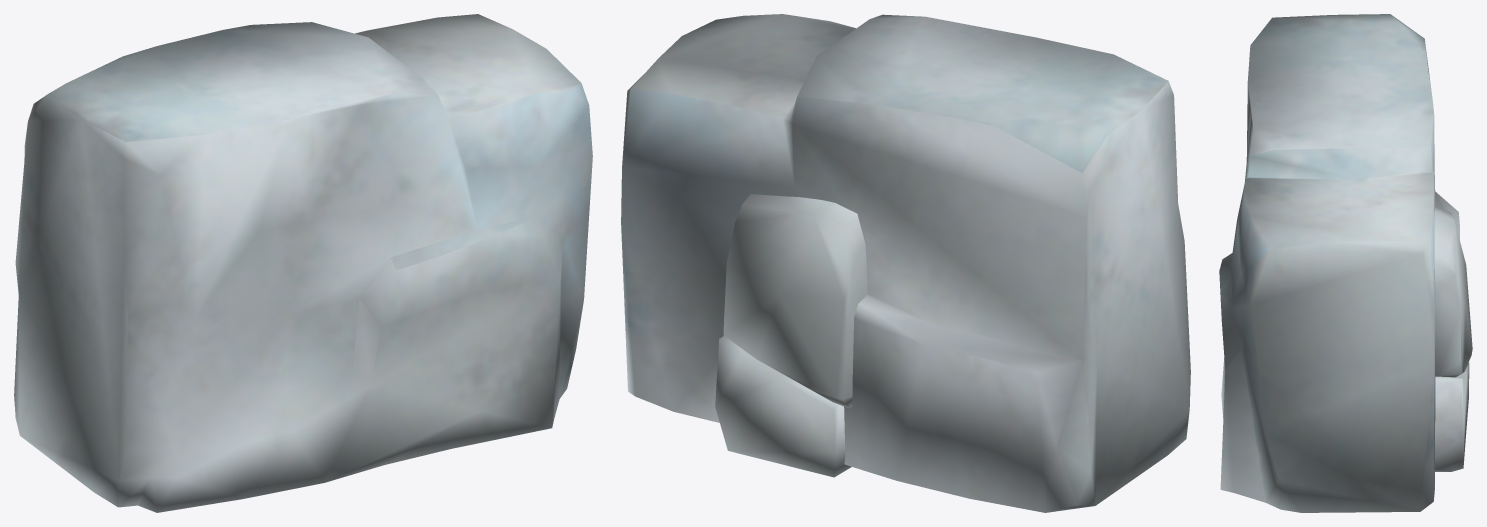
The model's file is P_BoulderCubic04.obj.
3 views of the same model, side by side, from view 1: azimuth 30°, elevation 25°; view 2: azimuth 150°, elevation 25°; view 3: azimuth 270°, elevation 25° (orthographic). The views are drawn at different scales.
Size of the model in its own units: 9.66 by 7.23 by 5.26.
